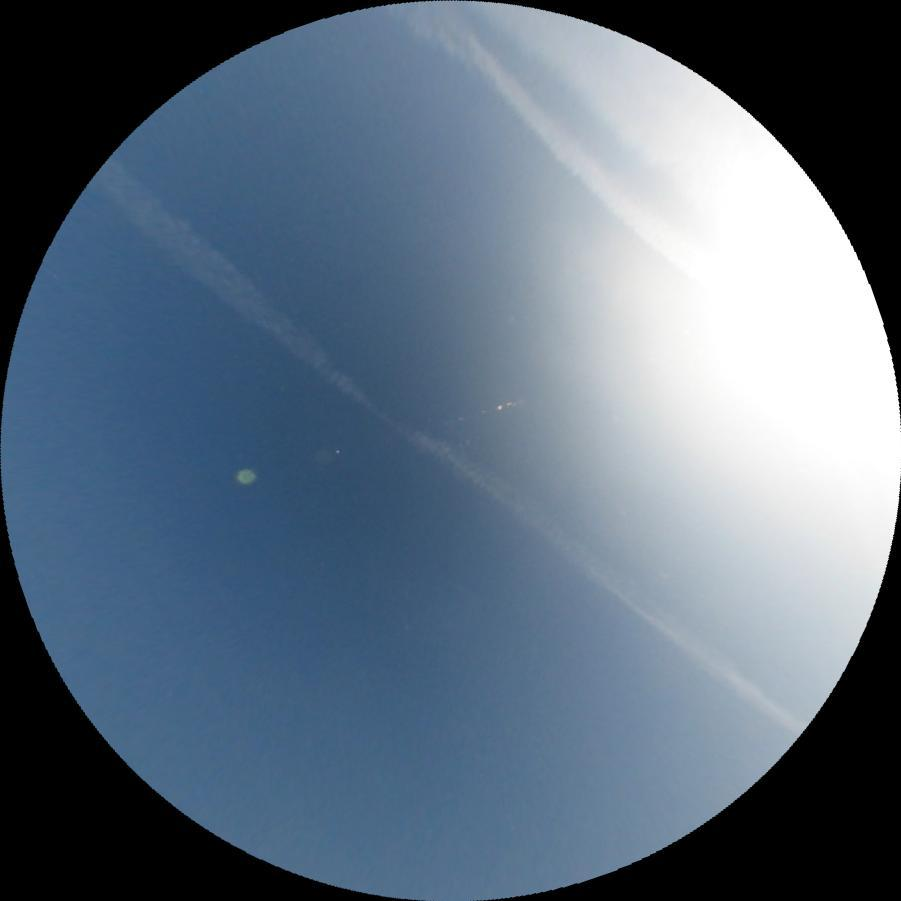contrail veryold: (87, 156, 809, 754)
